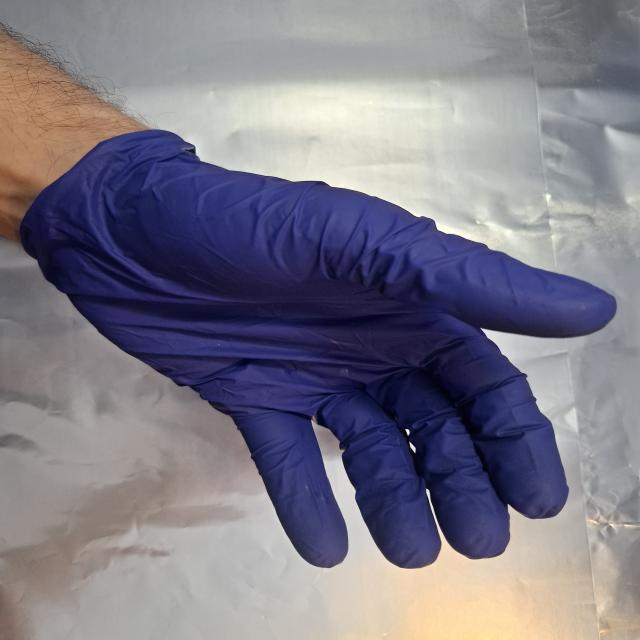glove_on: (21, 140, 622, 576)
